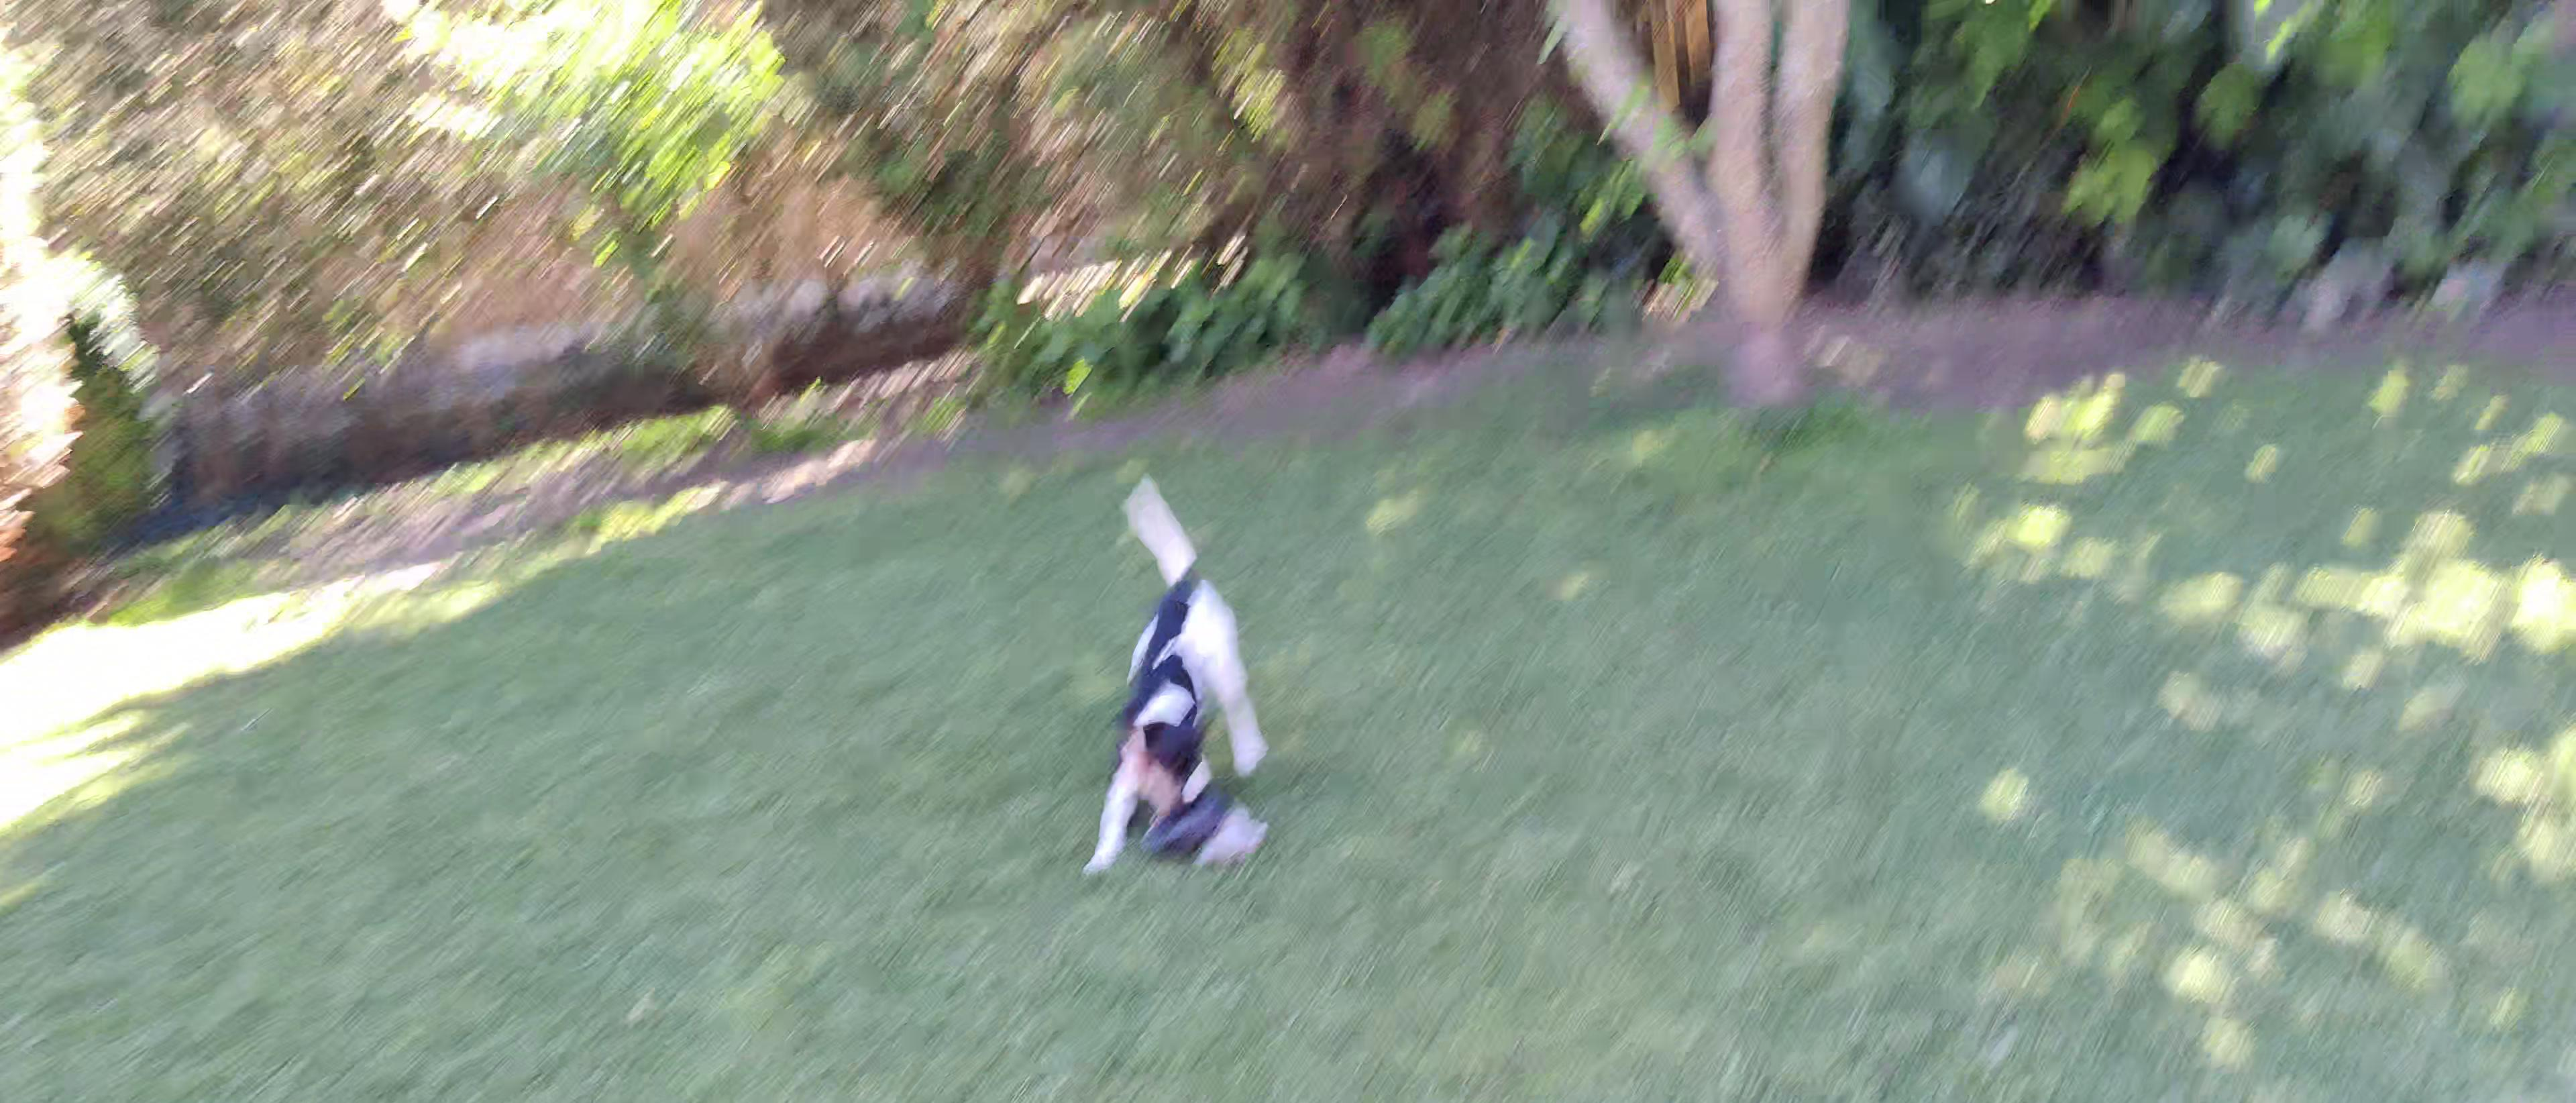Dog: (1063, 454, 1288, 891)
